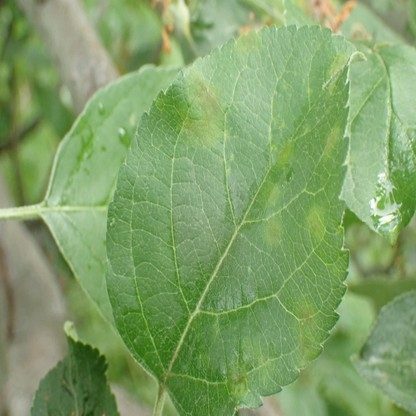scab: (183, 70, 222, 146), (229, 342, 275, 397), (294, 295, 315, 369), (327, 54, 348, 92), (308, 204, 324, 243), (235, 32, 259, 57), (324, 125, 337, 164), (276, 142, 294, 170), (265, 220, 281, 251), (269, 185, 280, 205)
